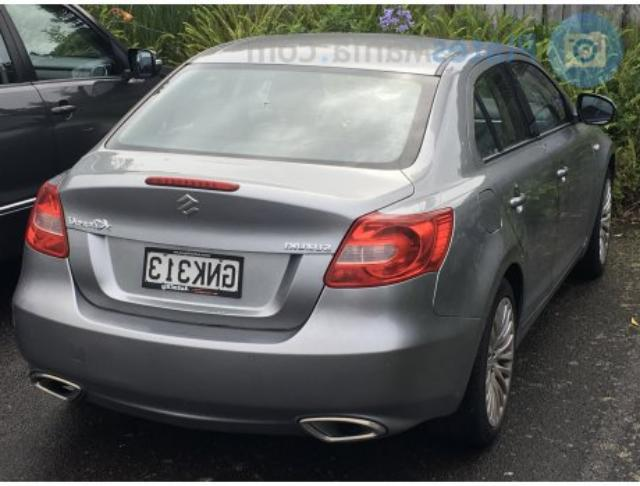Rego: (141, 249, 243, 297)
